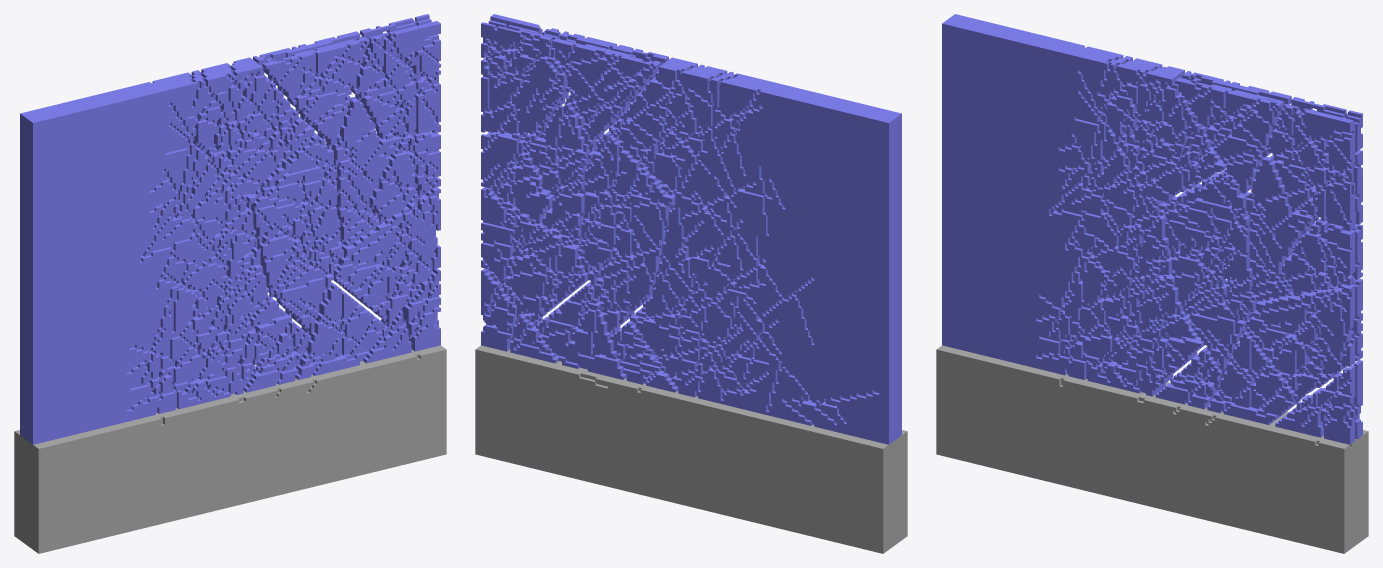
Rendered from Operating_room_Window2-2-1.fbx.
The picture shows the model from 3 angles, left to right: view 1: azimuth 30°, elevation 25°; view 2: azimuth 150°, elevation 25°; view 3: azimuth 330°, elevation 25°; orthographic projection.
Visible parts, largest first — view 1: Operating room Window2-2-1.002, Operating room Window2-2-1.001, Operating room Window2-2-1.011, Operating room Window2-2-1.005, Operating room Window2-2-1.013, Operating room Window2-2-1.007, Operating room Window2-2-1.009, Operating room Window2-2-1.017, Operating room Window2-2-1.004, Operating room Window2-2-1.019, Operating room Window2-2-1.015, Operating room Window2-2-1.008 (+1 smaller); view 2: Operating room Window2-2-1.002, Operating room Window2-2-1.001, Operating room Window2-2-1.012, Operating room Window2-2-1.006, Operating room Window2-2-1.014, Operating room Window2-2-1.008, Operating room Window2-2-1.010, Operating room Window2-2-1.018, Operating room Window2-2-1.003, Operating room Window2-2-1, Operating room Window2-2-1.016, Operating room Window2-2-1.007 (+1 smaller); view 3: Operating room Window2-2-1.002, Operating room Window2-2-1.001, Operating room Window2-2-1.011, Operating room Window2-2-1.005, Operating room Window2-2-1.013, Operating room Window2-2-1.007, Operating room Window2-2-1.009, Operating room Window2-2-1.017, Operating room Window2-2-1.019, Operating room Window2-2-1.004, Operating room Window2-2-1.014, Operating room Window2-2-1.015 (+3 smaller).
Boxes of the visible parts, <box> form: Operating room Window2-2-1.002: <box>20,57,314,444</box>; Operating room Window2-2-1.001: <box>14,345,446,553</box>; Operating room Window2-2-1.011: <box>331,97,440,323</box>; Operating room Window2-2-1.005: <box>246,132,343,332</box>; Operating room Window2-2-1.013: <box>351,21,440,139</box>; Operating room Window2-2-1.007: <box>262,37,369,147</box>; Operating room Window2-2-1.009: <box>295,283,383,379</box>; Operating room Window2-2-1.017: <box>369,132,440,222</box>; Operating room Window2-2-1.004: <box>243,321,311,392</box>; Operating room Window2-2-1.019: <box>403,268,440,351</box>; Operating room Window2-2-1.015: <box>363,311,411,363</box>; Operating room Window2-2-1.008: <box>253,31,360,139</box>; Operating room Window2-2-1.002: <box>609,57,901,444</box>; Operating room Window2-2-1.001: <box>475,345,907,553</box>; Operating room Window2-2-1.012: <box>481,102,590,322</box>; Operating room Window2-2-1.006: <box>578,131,675,332</box>; Operating room Window2-2-1.014: <box>481,22,570,135</box>; Operating room Window2-2-1.008: <box>552,38,661,147</box>; Operating room Window2-2-1.010: <box>536,282,626,379</box>; Operating room Window2-2-1.018: <box>481,131,554,223</box>; Operating room Window2-2-1.003: <box>610,321,678,392</box>; Operating room Window2-2-1: <box>481,268,516,351</box>; Operating room Window2-2-1.016: <box>510,313,560,363</box>; Operating room Window2-2-1.007: <box>559,31,668,139</box>; Operating room Window2-2-1.002: <box>942,14,1226,396</box>; Operating room Window2-2-1.001: <box>936,345,1368,553</box>; Operating room Window2-2-1.011: <box>1246,156,1355,398</box>; Operating room Window2-2-1.005: <box>1159,171,1258,369</box>; Operating room Window2-2-1.013: <box>1267,104,1355,231</box>; Operating room Window2-2-1.007: <box>1175,78,1284,193</box>; Operating room Window2-2-1.009: <box>1207,331,1297,424</box>; Operating room Window2-2-1.017: <box>1282,217,1355,294</box>; Operating room Window2-2-1.019: <box>1317,365,1355,444</box>; Operating room Window2-2-1.004: <box>1155,347,1222,409</box>; Operating room Window2-2-1.014: <box>1291,97,1362,224</box>; Operating room Window2-2-1.015: <box>1275,392,1323,437</box>.
Size of the model in its own units: 12.6 by 12.6 by 1.3.
